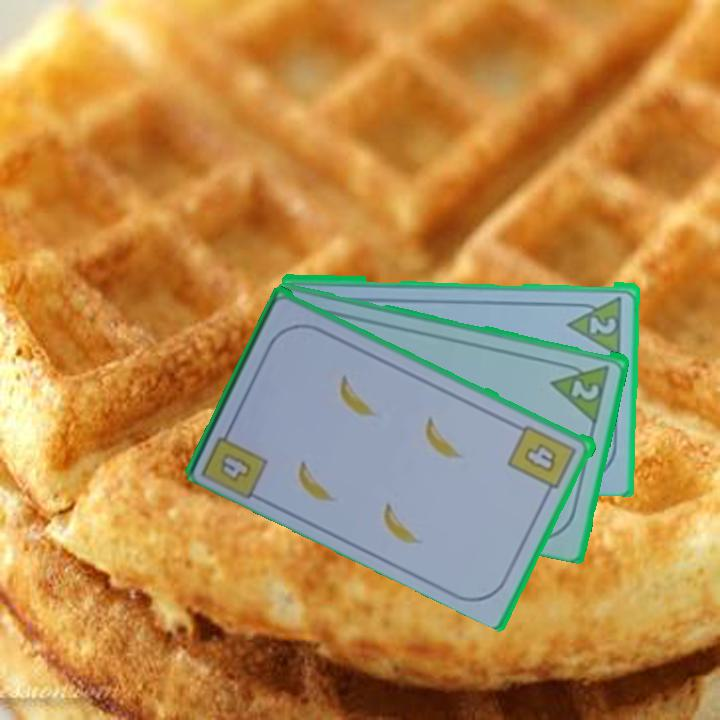2p: (548, 357, 613, 423), (586, 311, 619, 337)
4b: (199, 419, 272, 500), (505, 421, 580, 499)
